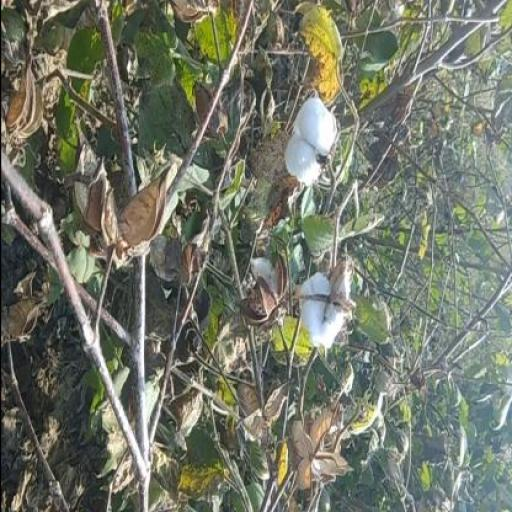cotton_ready: (288, 230, 354, 357), (273, 76, 337, 190)
